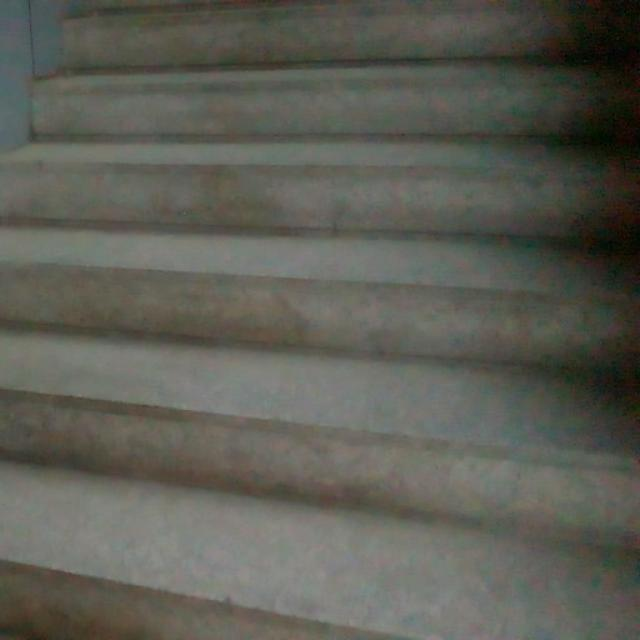stair: (7, 0, 640, 631)
